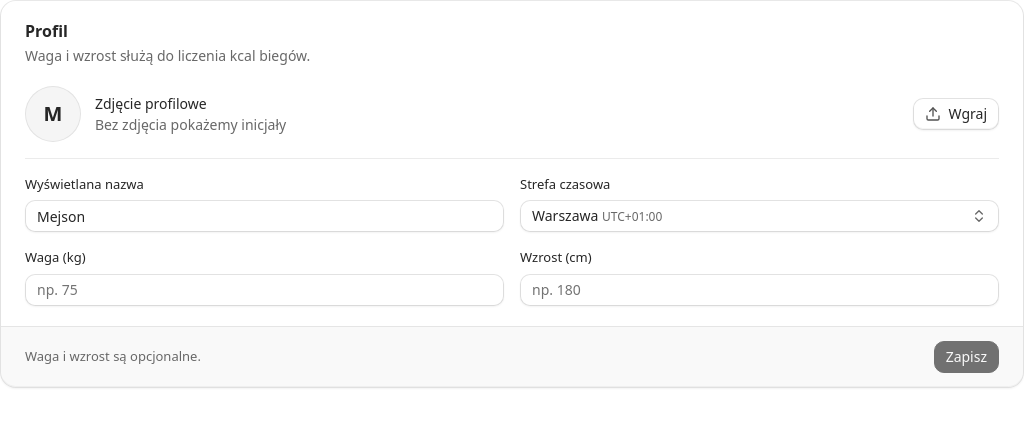
ProfileCard › błąd z serwera pokazuje się pod polem, bez „Zapisano”
The width and height of the screenshot is (1024, 427).
Type "70" into the field labelled "Waga (kg)" at (264, 290), box [25,274,504,306]
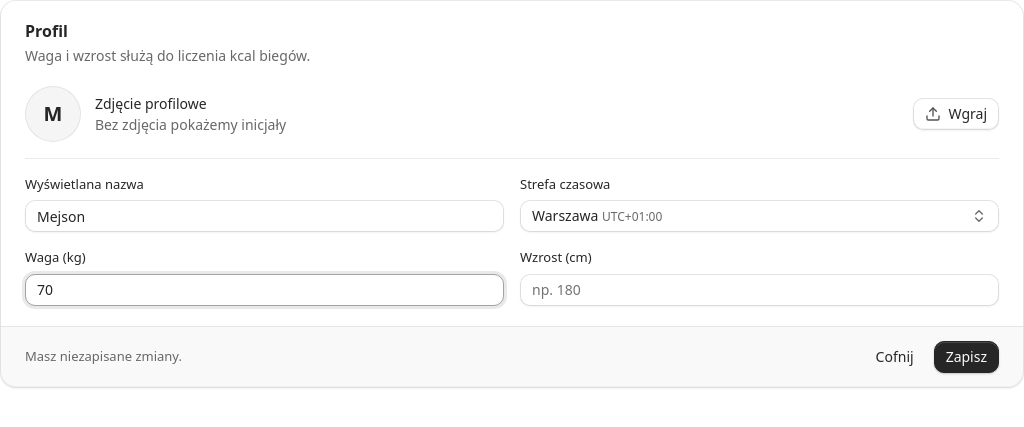
Click the button "Zapisz" at (966, 357), box [934,341,999,373]
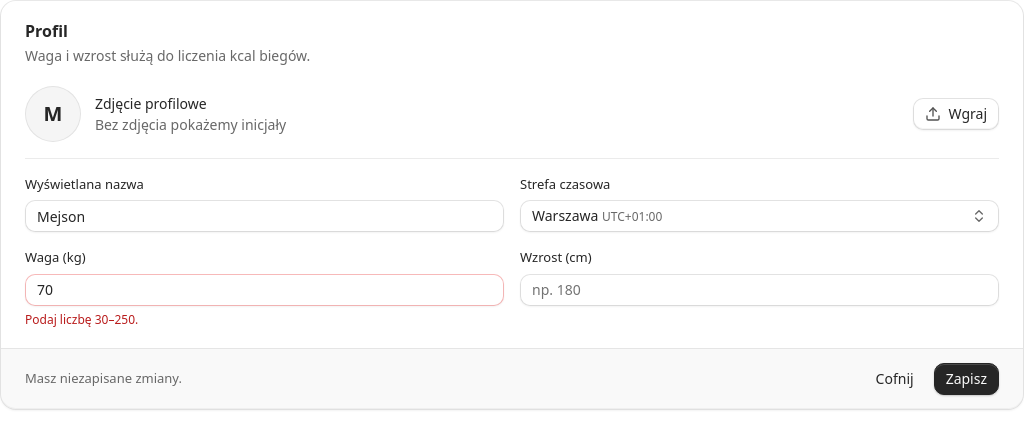
Expected: the text "Podaj liczbę 30–250." is shown, [25,311,138,328]
